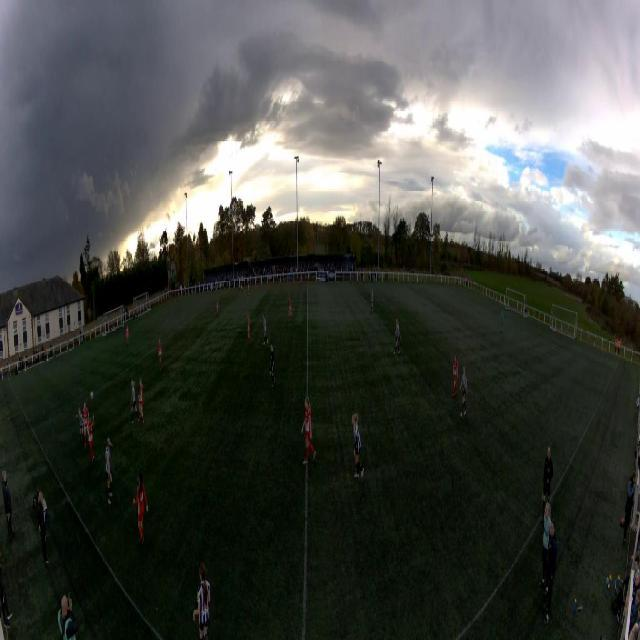ball: (90, 392, 94, 401)
player: (192, 563, 213, 640), (133, 472, 149, 548), (350, 410, 364, 479), (301, 402, 318, 456), (105, 436, 114, 507), (87, 414, 96, 466), (76, 406, 86, 448), (459, 366, 467, 418), (130, 379, 138, 423), (138, 378, 145, 426), (394, 317, 401, 356), (452, 354, 458, 396), (269, 344, 275, 385), (82, 405, 90, 433), (262, 314, 268, 345), (287, 297, 293, 323), (247, 315, 252, 345), (158, 339, 162, 371), (500, 309, 504, 333), (371, 290, 375, 314), (216, 299, 219, 318), (126, 326, 129, 344), (247, 282, 250, 298)
